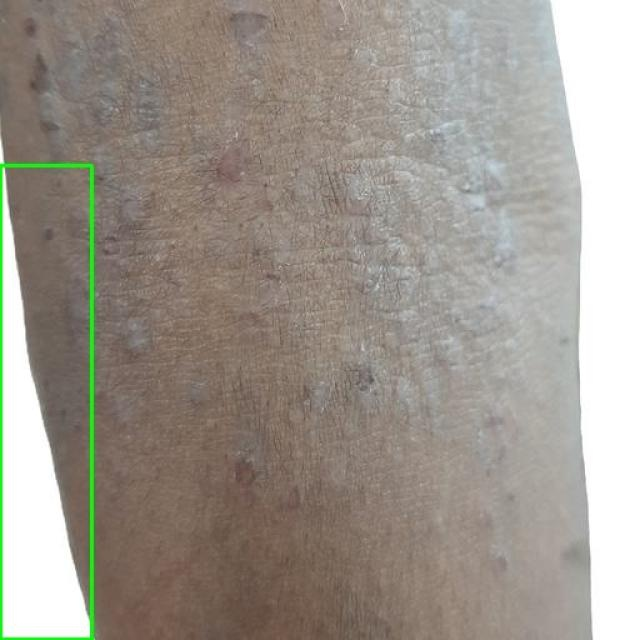Atopic Dermatitis: (0, 165, 91, 639)
